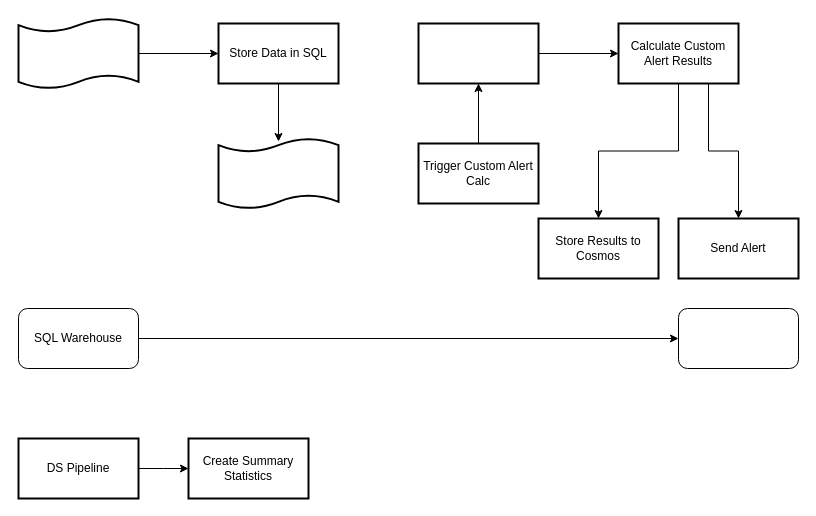
This 816x516 diagram has some shape labels left out. Each missing label, with the centre of its shape:
Calculate Custom Alert QueueMessage: the point at 278,173
Csv Creation QueueMessage: the point at 78,53
Full Flight Plotting: the point at 738,338
Pull Data Series Into Memory: the point at 478,53
